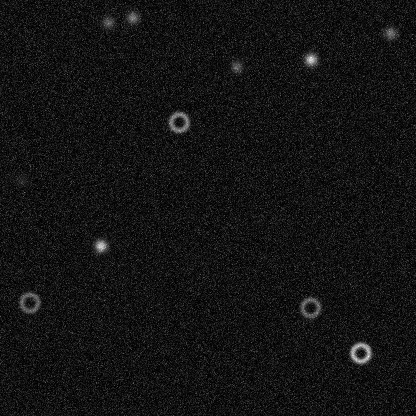Ring: (166, 110, 190, 134), (17, 290, 41, 314), (348, 340, 372, 364), (298, 295, 322, 319)
Spot: (228, 58, 244, 74), (302, 51, 318, 67), (13, 172, 29, 188), (100, 14, 116, 30), (382, 25, 398, 41), (92, 237, 108, 253), (124, 9, 140, 25)
